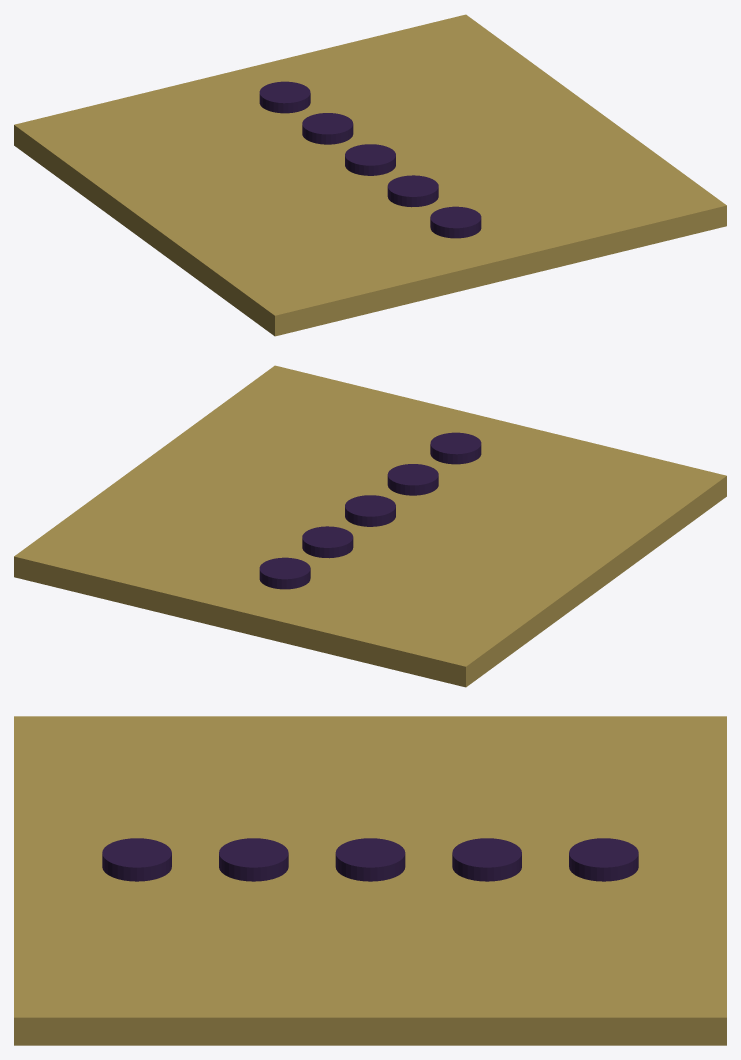
The model's file is powerRapid.fbx.
The picture shows the model from 3 angles, top to bottom: view 1: azimuth 30°, elevation 25°; view 2: azimuth 150°, elevation 25°; view 3: azimuth 270°, elevation 25°; orthographic projection. The views are drawn at different scales.
Parts seen in each view (by area): view 1: Cube.025; view 2: Cube.025; view 3: Cube.025.
Part boxes in pixels (left/top/right/bottom): Cube.025: left=14, top=14, right=726, bottom=336; Cube.025: left=14, top=365, right=726, bottom=687; Cube.025: left=14, top=716, right=726, bottom=1045.
Size of the model in its own units: 611 by 39.91 by 611.
